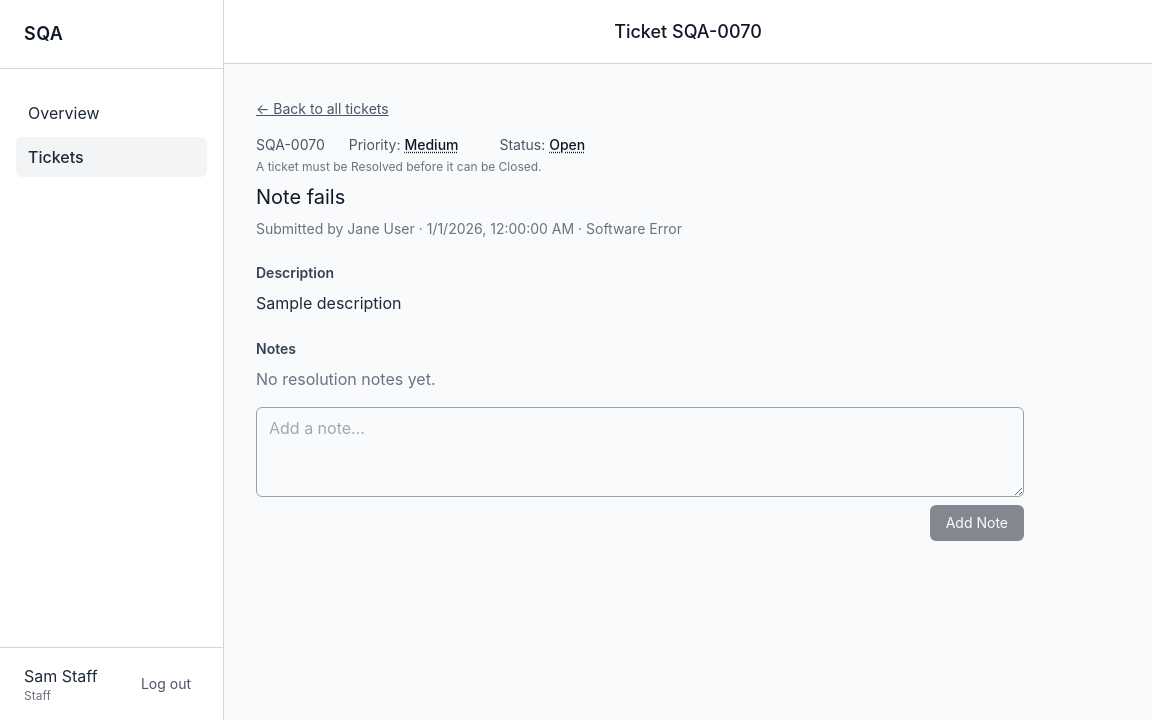
Test: TicketDetail page › failed updates (error handling) › TC-ERR-06: a failed note shows an error and keeps the typed text
expect the heading "Note fails" is shown: met, box x1=256 y1=185 x2=345 y2=209
Type "Restarted the router" into the text box with placeholder "Add a note..." at (640, 452), box x1=256 y1=407 x2=1024 y2=497
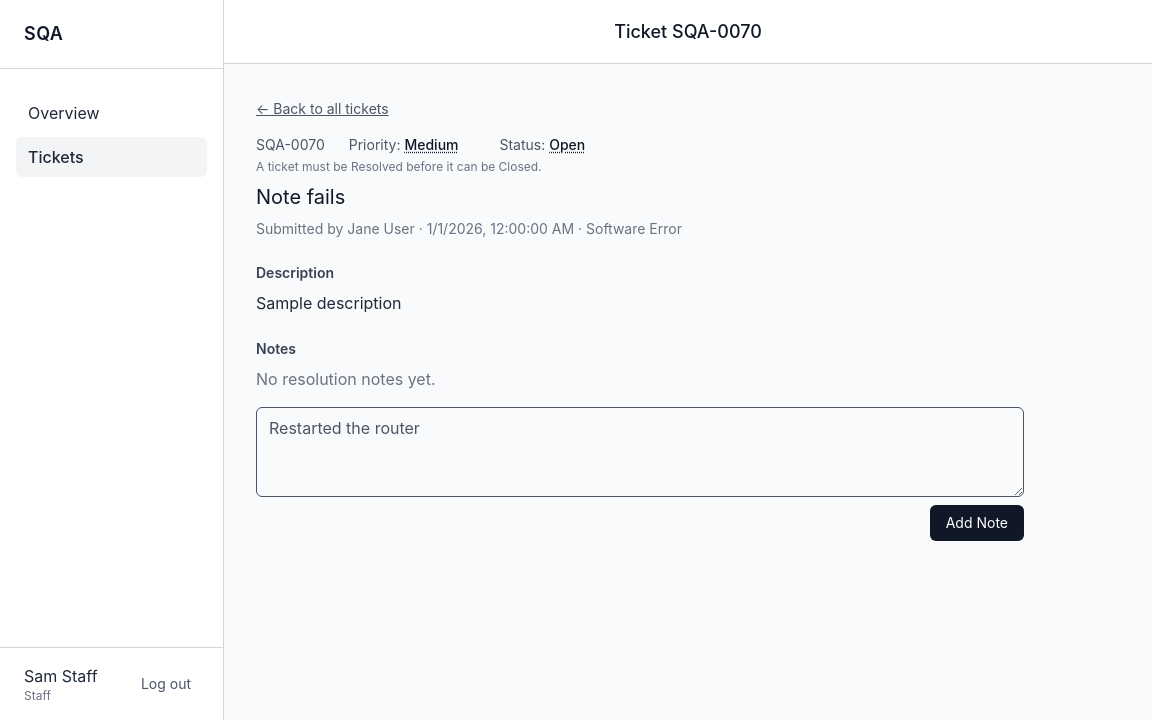
Click the button "Add Note" at (977, 523), box x1=930 y1=505 x2=1024 y2=541
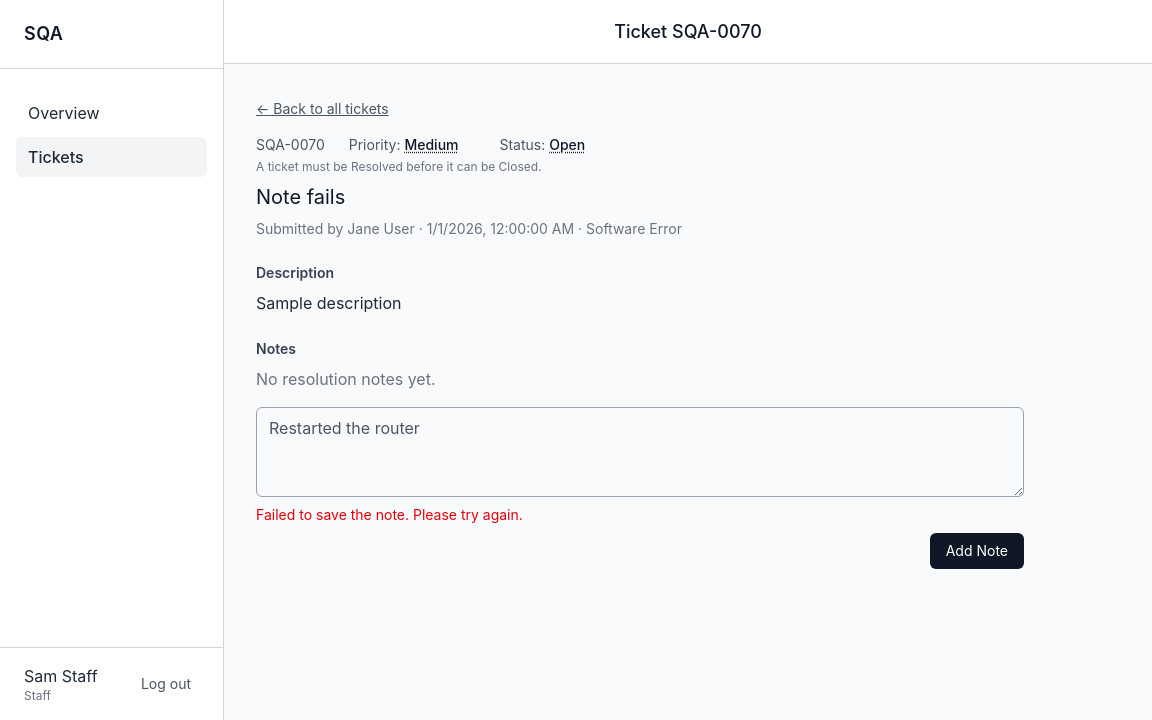
expect the text "No resolution notes yet." is shown: met, box x1=256 y1=369 x2=436 y2=389
expect the button "Add Note" is enabled: met, box x1=930 y1=533 x2=1024 y2=569
expect the message shows "Failed to save the note": met, box x1=256 y1=506 x2=523 y2=523
